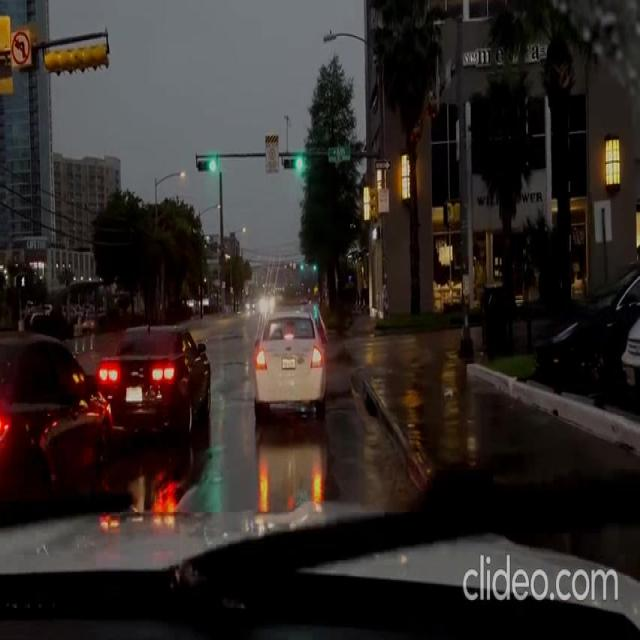Car: (0, 322, 115, 521), (97, 322, 211, 446), (537, 261, 639, 385), (253, 300, 326, 428)
